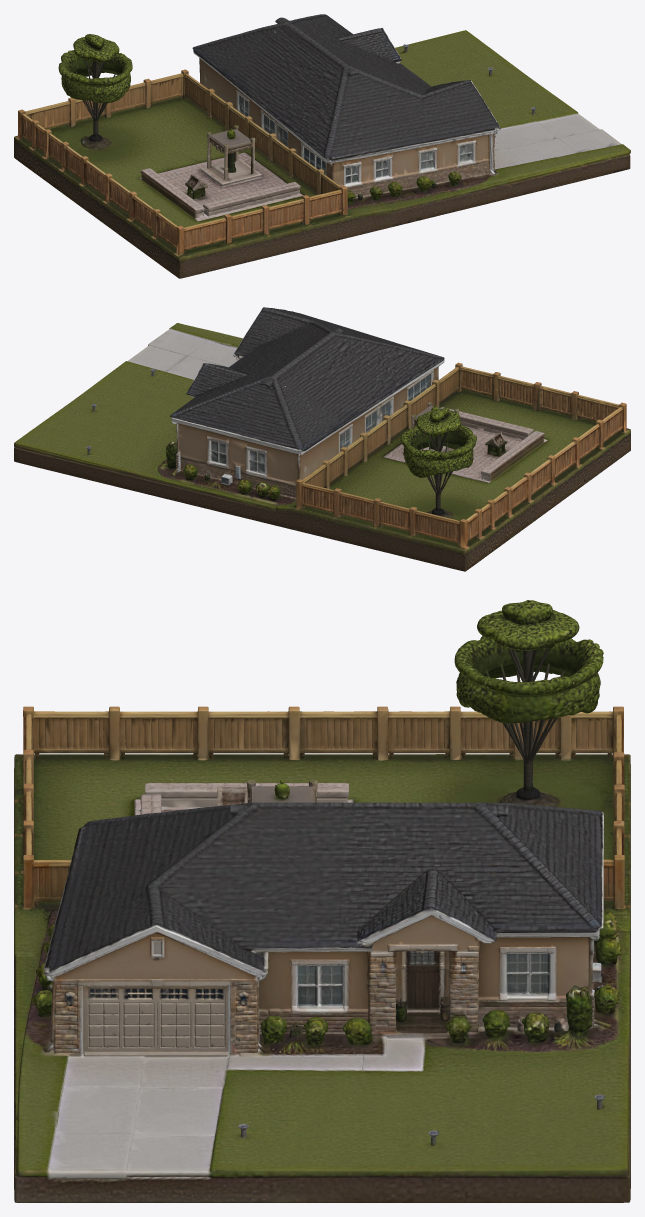
File: house.glb
The picture shows the model from 3 angles, top to bottom: view 1: azimuth 30°, elevation 25°; view 2: azimuth 150°, elevation 25°; view 3: azimuth 270°, elevation 25°; orthographic projection. The views are drawn at different scales.
Visible parts, largest first — view 1: tripo_node_7bc1e30a-34ef-4eaf-94e9-f37ae049d12a; view 2: tripo_node_7bc1e30a-34ef-4eaf-94e9-f37ae049d12a; view 3: tripo_node_7bc1e30a-34ef-4eaf-94e9-f37ae049d12a.
Boxes of the visible parts, <box> form: tripo_node_7bc1e30a-34ef-4eaf-94e9-f37ae049d12a: <box>14,14,630,278</box>; tripo_node_7bc1e30a-34ef-4eaf-94e9-f37ae049d12a: <box>14,307,630,571</box>; tripo_node_7bc1e30a-34ef-4eaf-94e9-f37ae049d12a: <box>14,600,630,1202</box>.
Size of the model in its own units: 0.9787 by 0.2666 by 0.6207.
Materials: 1 (1 with a texture image).
